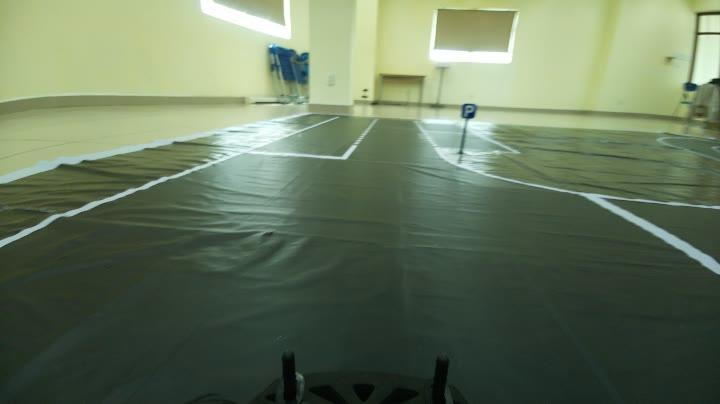parking: (455, 94, 478, 124)
